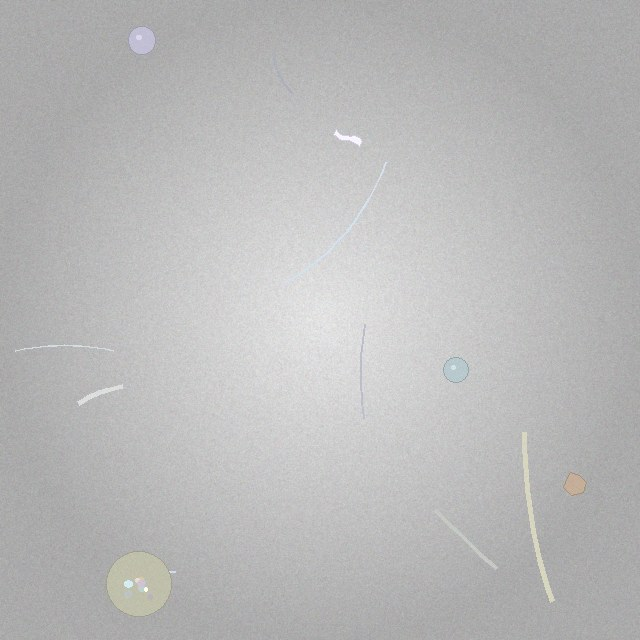fiber: (282, 159, 388, 286), (519, 426, 558, 607), (432, 506, 500, 572), (74, 382, 128, 409), (13, 343, 116, 353), (271, 51, 293, 95), (358, 322, 367, 421), (109, 567, 178, 574)
film: (334, 129, 363, 148)
foam: (107, 552, 171, 616)
fragment: (564, 473, 587, 495)
pellet: (128, 27, 156, 54), (444, 357, 468, 382)
